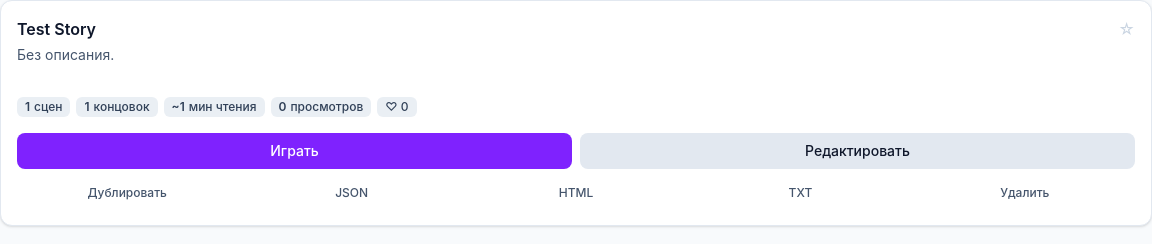
Test: StoryCard › likes a story and reports the updated count
Click the button named "Поставить лайк" at [397, 107], box [377,97,416,117]
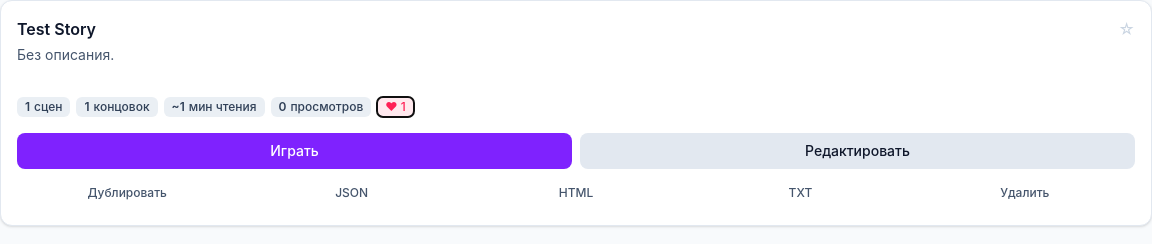
Expected: the button named "Убрать лайк" reads "♥ 1", [377,97,414,117]
